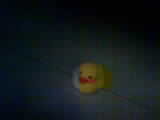duck: (73, 58, 99, 94)
